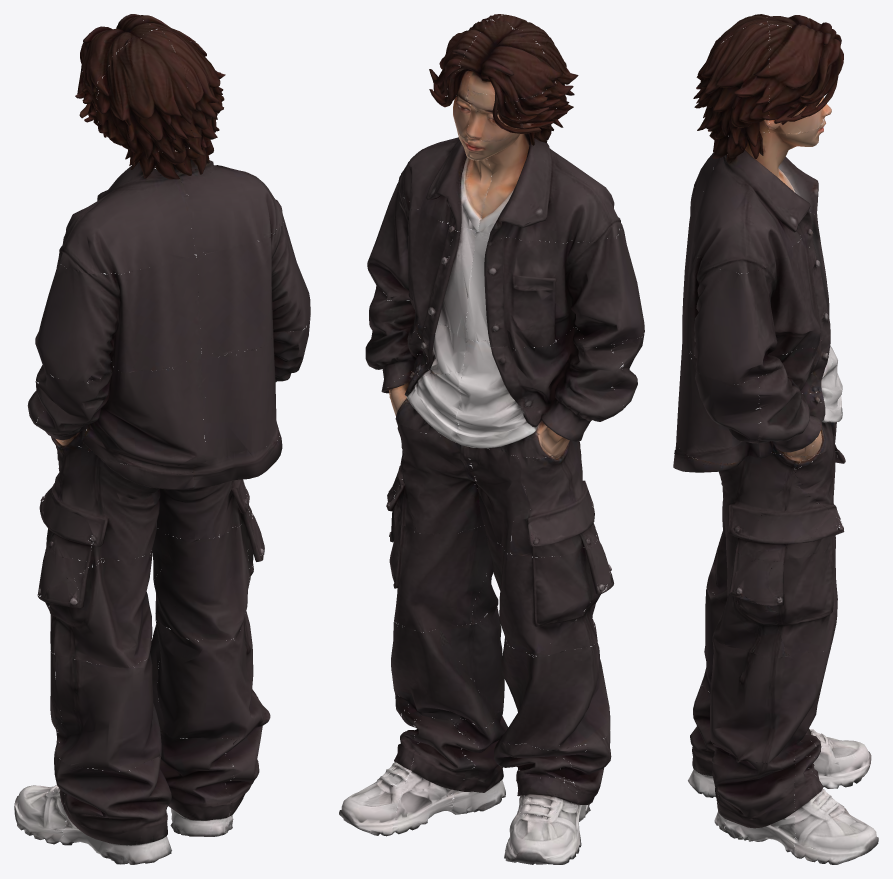
File: resident-hi3d.glb
3 views of the same model, side by side, from view 1: azimuth 30°, elevation 25°; view 2: azimuth 150°, elevation 25°; view 3: azimuth 270°, elevation 25° (orthographic).
Parts seen in each view (by area): view 1: geometry_0; view 2: geometry_0; view 3: geometry_0.
Boxes of the visible parts, bbox=[...] form: geometry_0: bbox=[14, 14, 310, 864]; geometry_0: bbox=[339, 14, 644, 864]; geometry_0: bbox=[673, 14, 878, 864].
Size of the model in its own units: 0.5722 by 1.65 by 0.389.
1 material, 1 textured.
